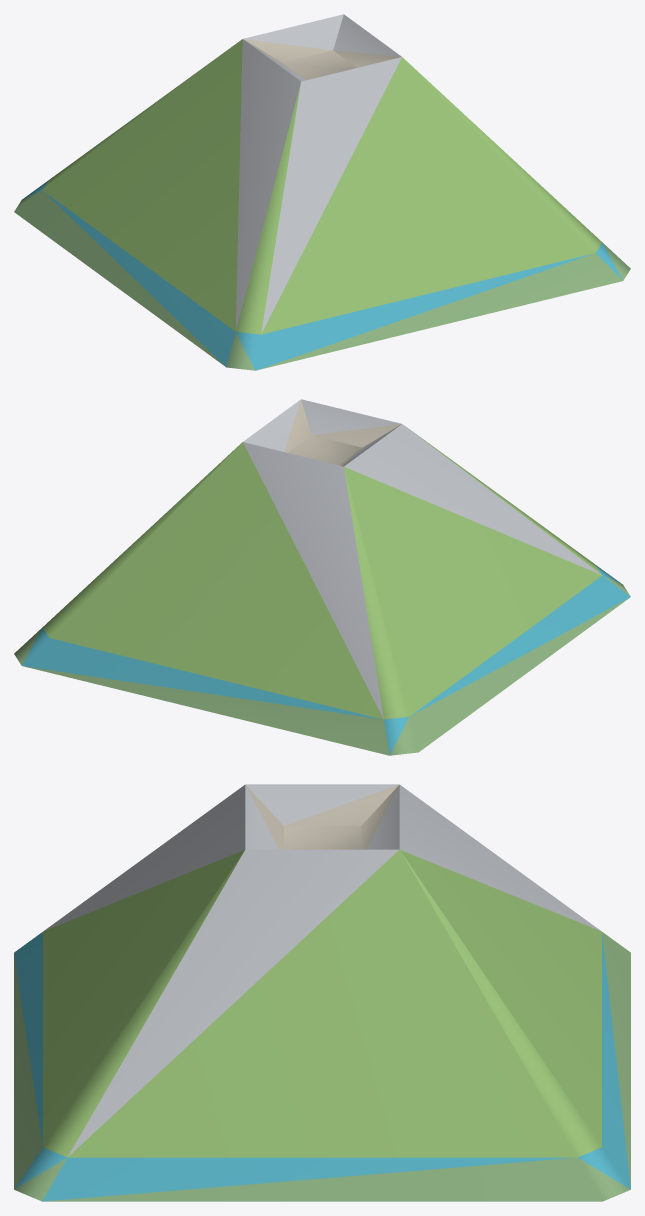
The picture shows the model from 3 angles, top to bottom: view 1: azimuth 30°, elevation 25°; view 2: azimuth 150°, elevation 25°; view 3: azimuth 270°, elevation 25°; orthographic projection. The views are drawn at different scales.
Visible parts, largest first — view 1: model; view 2: model; view 3: model.
Boxes of the visible parts, x1,y1,x2,y2 form: model: (14,14,630,370); model: (14,399,630,755); model: (14,784,630,1201).
Bounding box in the file's own units: 2.2 × 1 × 2.2.
